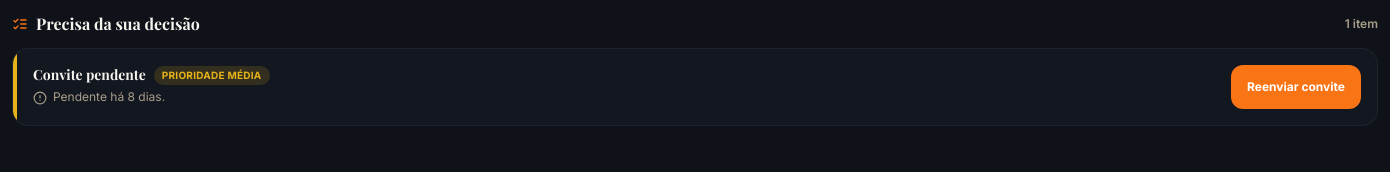
Test: DecisionQueue com ações que alteram dados › executa a ação e mostra a confirmação do efeito
What coordinates should you click on to do the following:
click the button with test id "decision-mutation-button"
I would click on:
 (1296, 87)
Its box is [1231,65,1361,109].
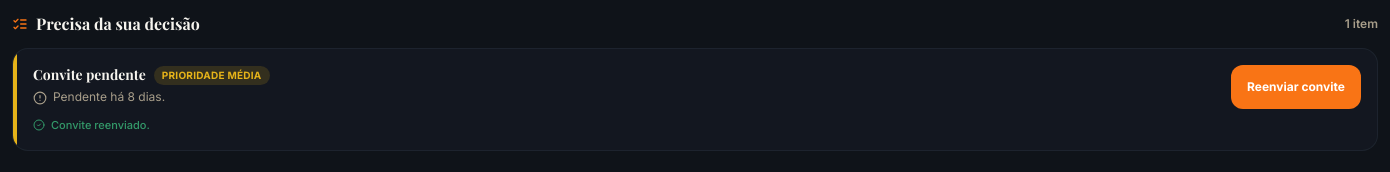
Expected: the message with test id "decision-outcome-succeeded" reads "Convite reenviado.", [51,118,150,132]
